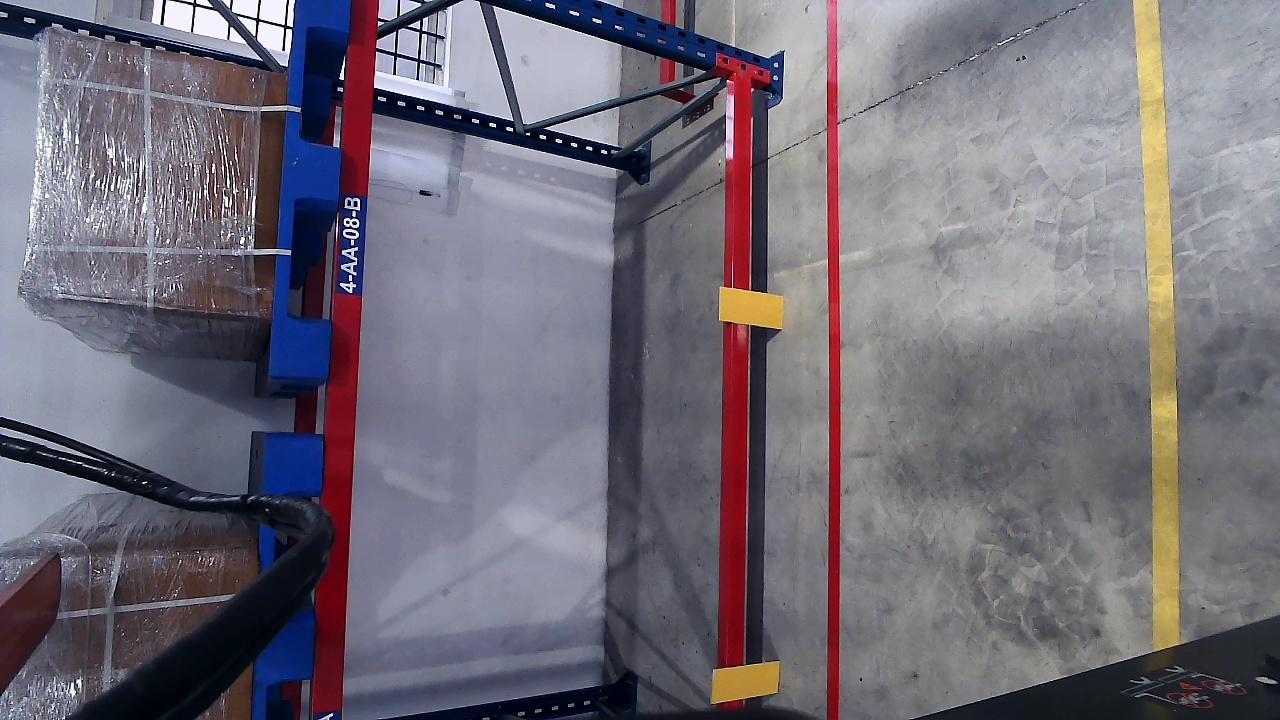h_rack: (308, 0, 375, 712), (721, 77, 756, 712)
orange_strip: (711, 660, 780, 702), (719, 287, 784, 329)
red_line: (822, 0, 844, 715)
small_pallet: (281, 0, 360, 383)
yellow_line: (1136, 2, 1183, 654)
